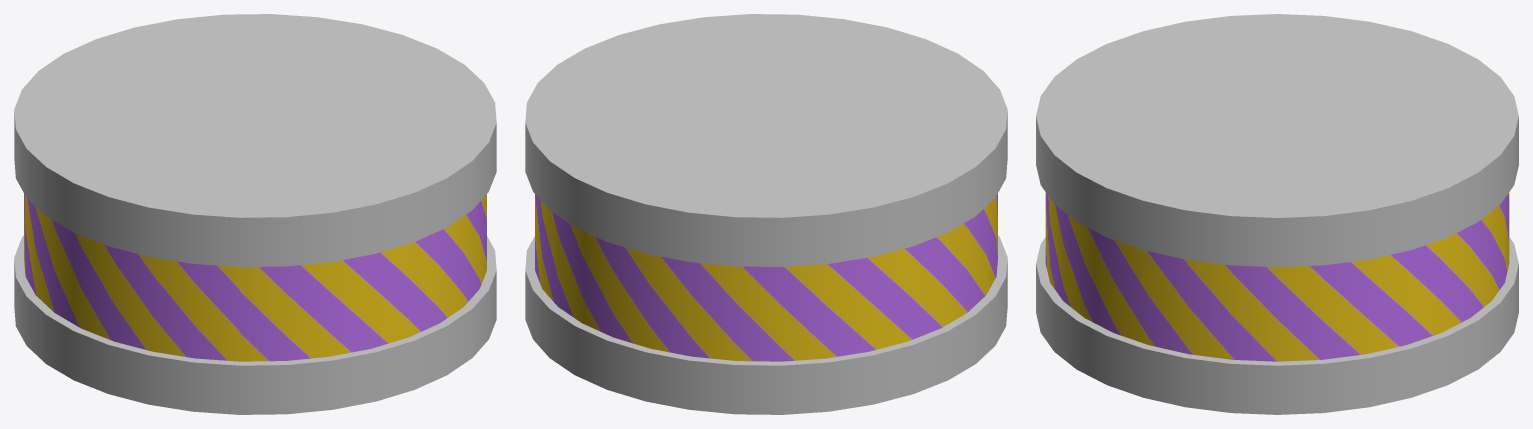
File: YELLOW_CylinderA_move.fbx
3 views of the same model, side by side, from view 1: azimuth 30°, elevation 25°; view 2: azimuth 150°, elevation 25°; view 3: azimuth 270°, elevation 25° (orthographic).
Visible parts, largest first — view 1: YELLOW_CylinderA_move, RotateMesh; view 2: YELLOW_CylinderA_move, RotateMesh; view 3: YELLOW_CylinderA_move, RotateMesh.
Boxes of the visible parts, <box> form: YELLOW_CylinderA_move: <box>14,14,496,414</box>; RotateMesh: <box>24,194,486,361</box>; YELLOW_CylinderA_move: <box>525,14,1007,414</box>; RotateMesh: <box>535,194,997,361</box>; YELLOW_CylinderA_move: <box>1036,14,1518,414</box>; RotateMesh: <box>1045,192,1509,361</box>.
Size of the model in its own units: 60 by 27 by 60.
